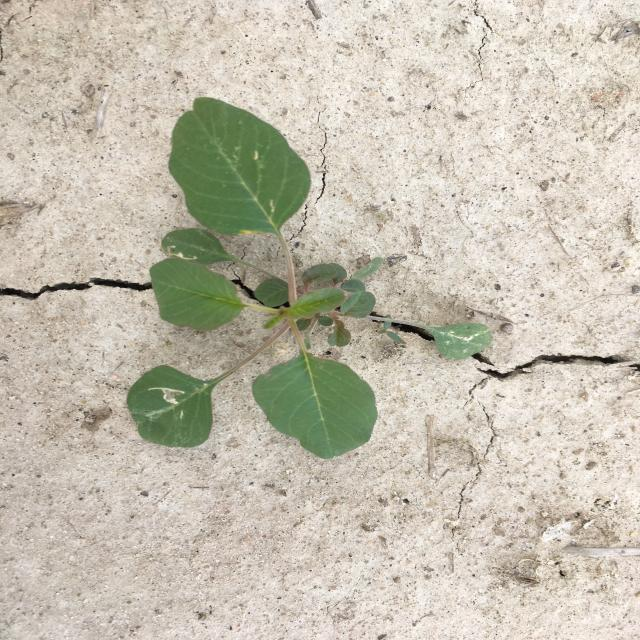PalmerAmaranth: (126, 97, 492, 459)
